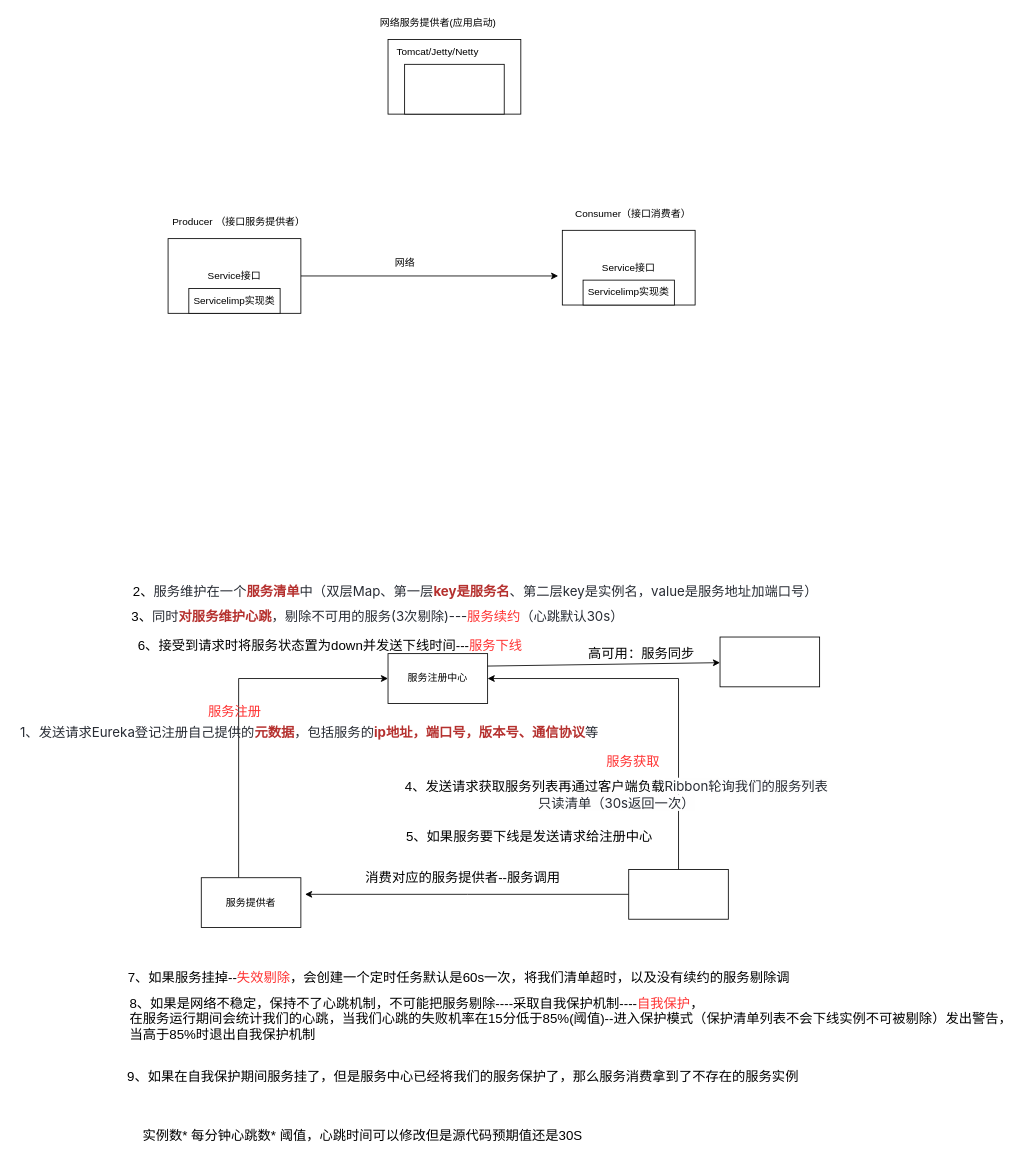
Some shapes in this 1033 by 1158 pixel diagram are drawn without their labels. Here are the shapes that lost their labels. From the top down, the box of each, then its label:
(404, 63, 504, 114): 获取服务配置参数：host、端口
(719, 636, 820, 687): 服务注册中心2
(628, 869, 728, 919): 服务消费者
